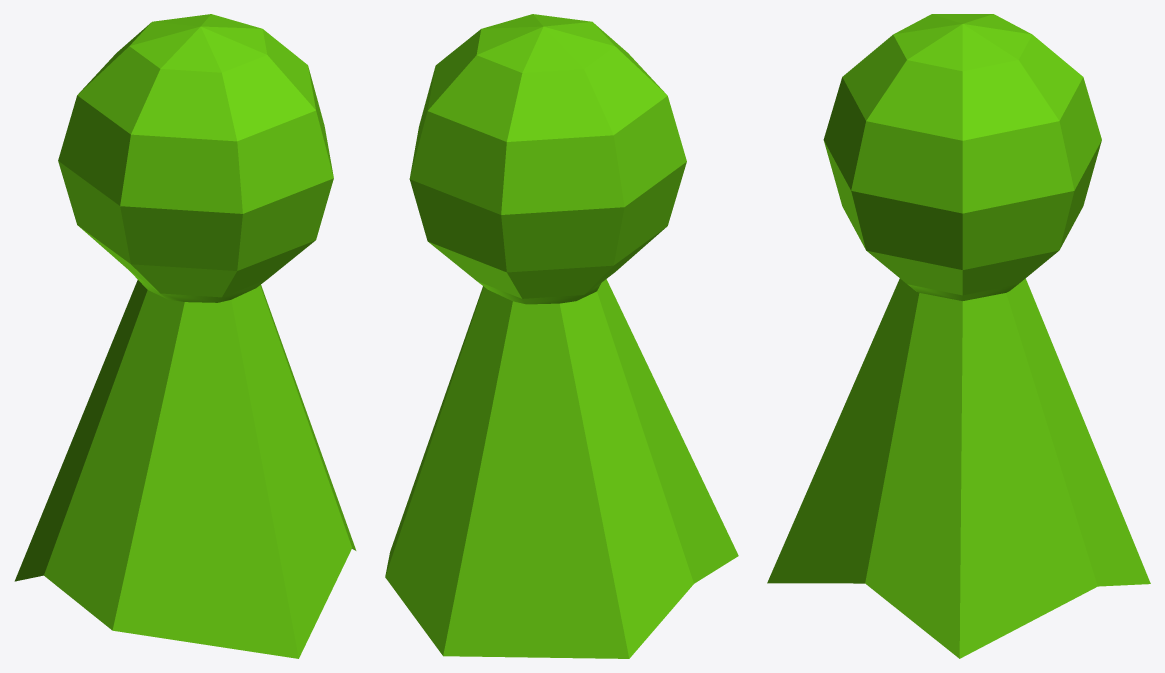
Rendered from Ghost.fbx.
3 views of the same model, side by side, from view 1: azimuth 30°, elevation 25°; view 2: azimuth 150°, elevation 25°; view 3: azimuth 270°, elevation 25° (orthographic).
Visible parts, largest first — view 1: pSphere4; view 2: pSphere4; view 3: pSphere4.
Part boxes in pixels (bbox=[...]): pSphere4: bbox=[14, 14, 356, 658]; pSphere4: bbox=[385, 14, 738, 658]; pSphere4: bbox=[767, 14, 1150, 658].
Bounding box in the file's own units: 2.48 × 4.33 × 2.69.
1 material, 1 textured.
